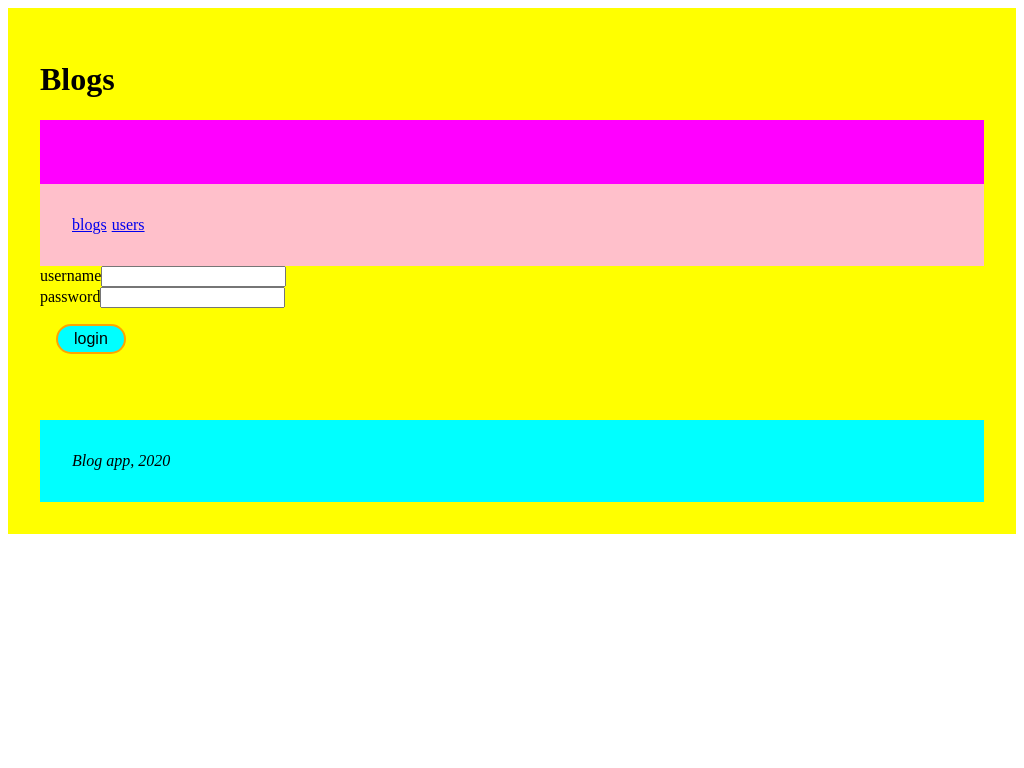
it: Blog app › login fails with a wrong password
Type "wrong" into the field with id "username".
click(194, 277); type("wrong")  # box [101, 266, 286, 287]
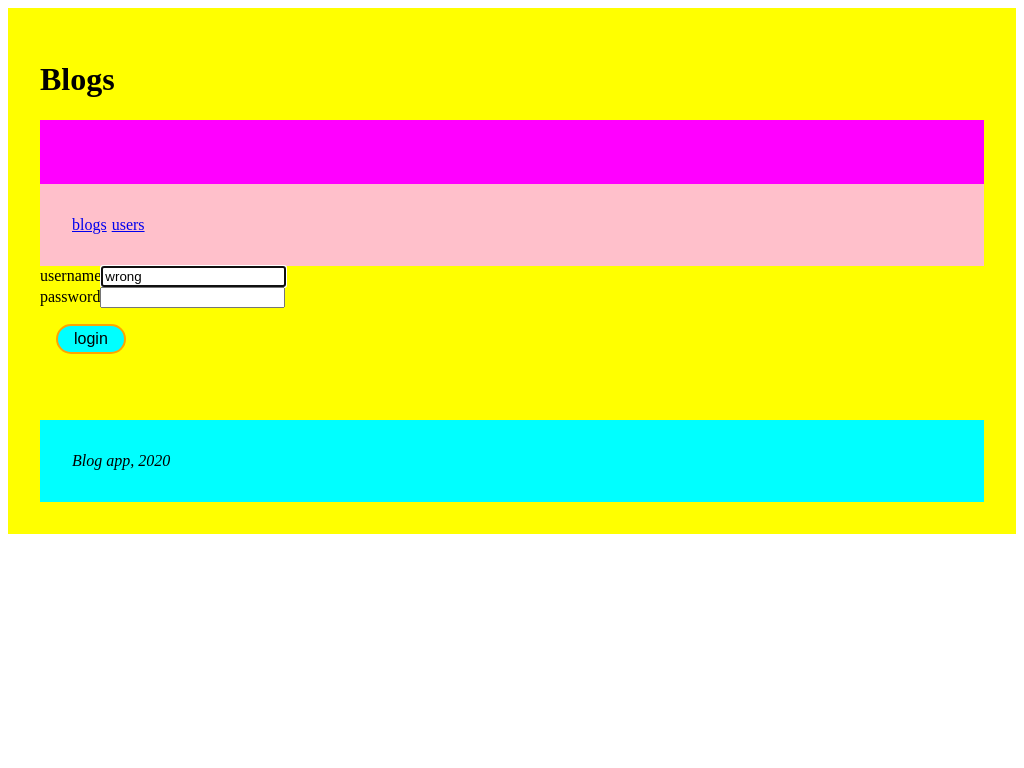
Type "wrong" into the password field.
click(193, 298); type("wrong")  # box [100, 287, 285, 308]
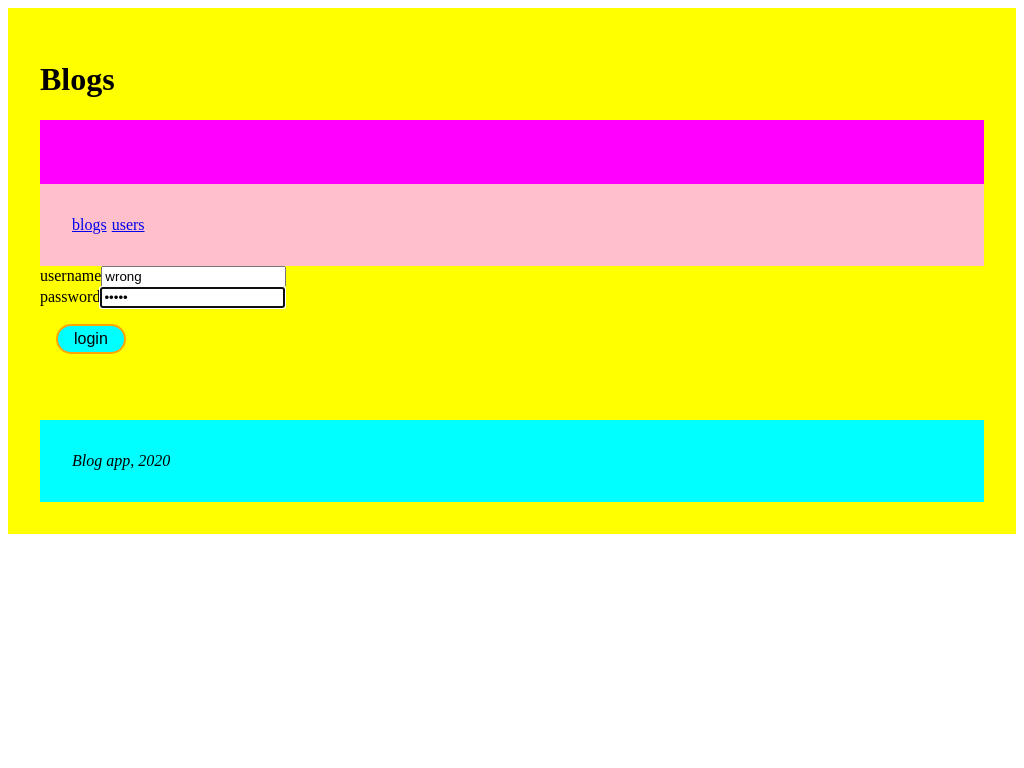
Click the button with id "login-button".
click(91, 339)  # box [56, 324, 126, 354]
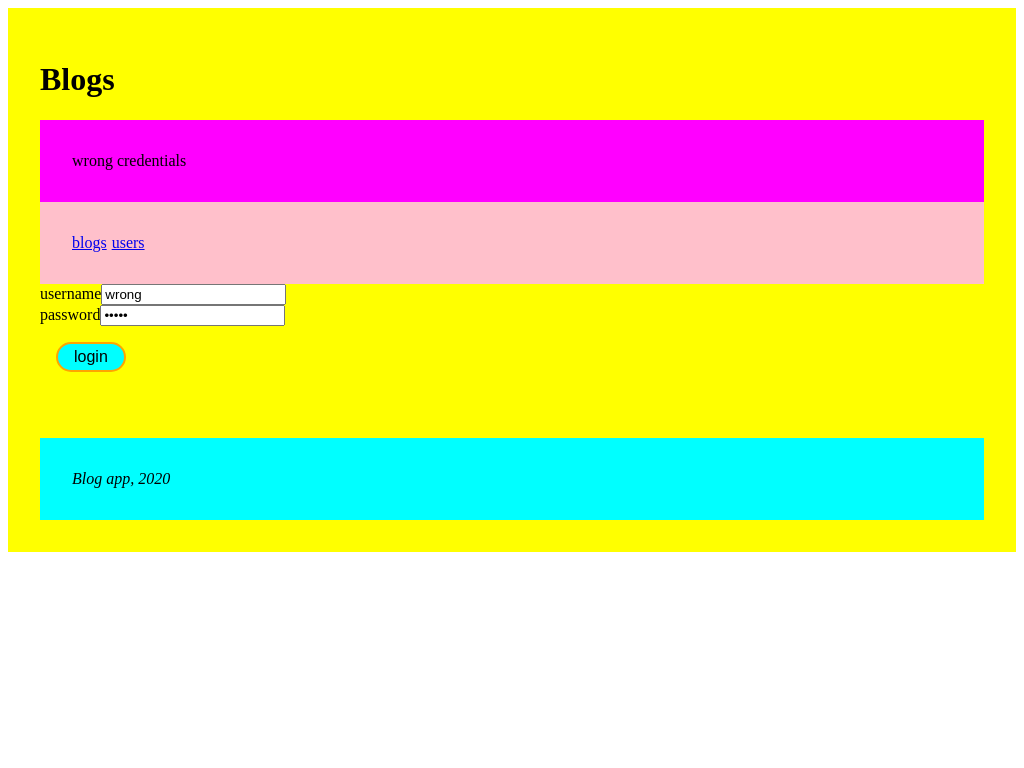
Expected: the text "wrong credentials" is shown, [72, 152, 186, 169]
